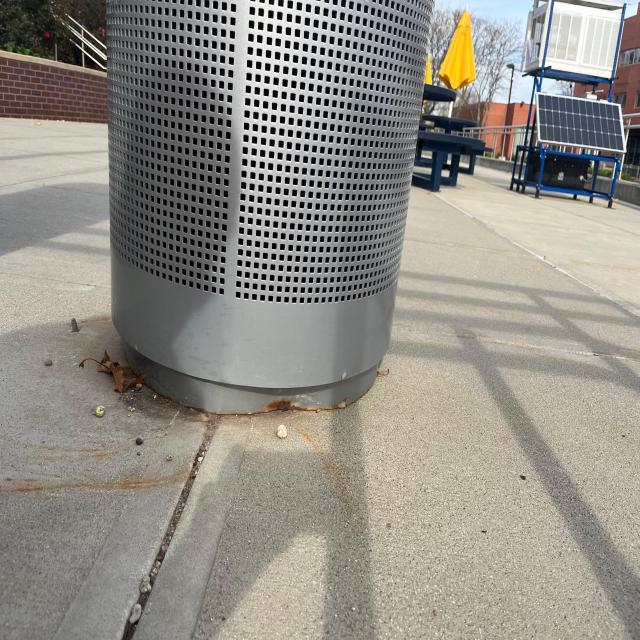Filiform Corrosion: (246, 401, 294, 415)
